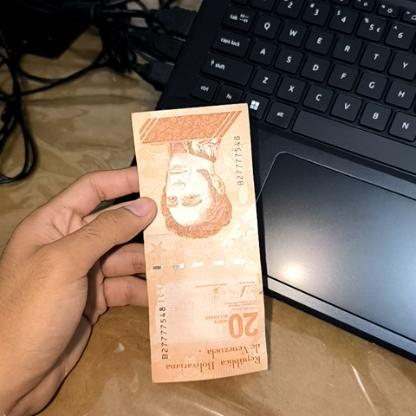twenty-front-vef: (131, 102, 269, 386)
